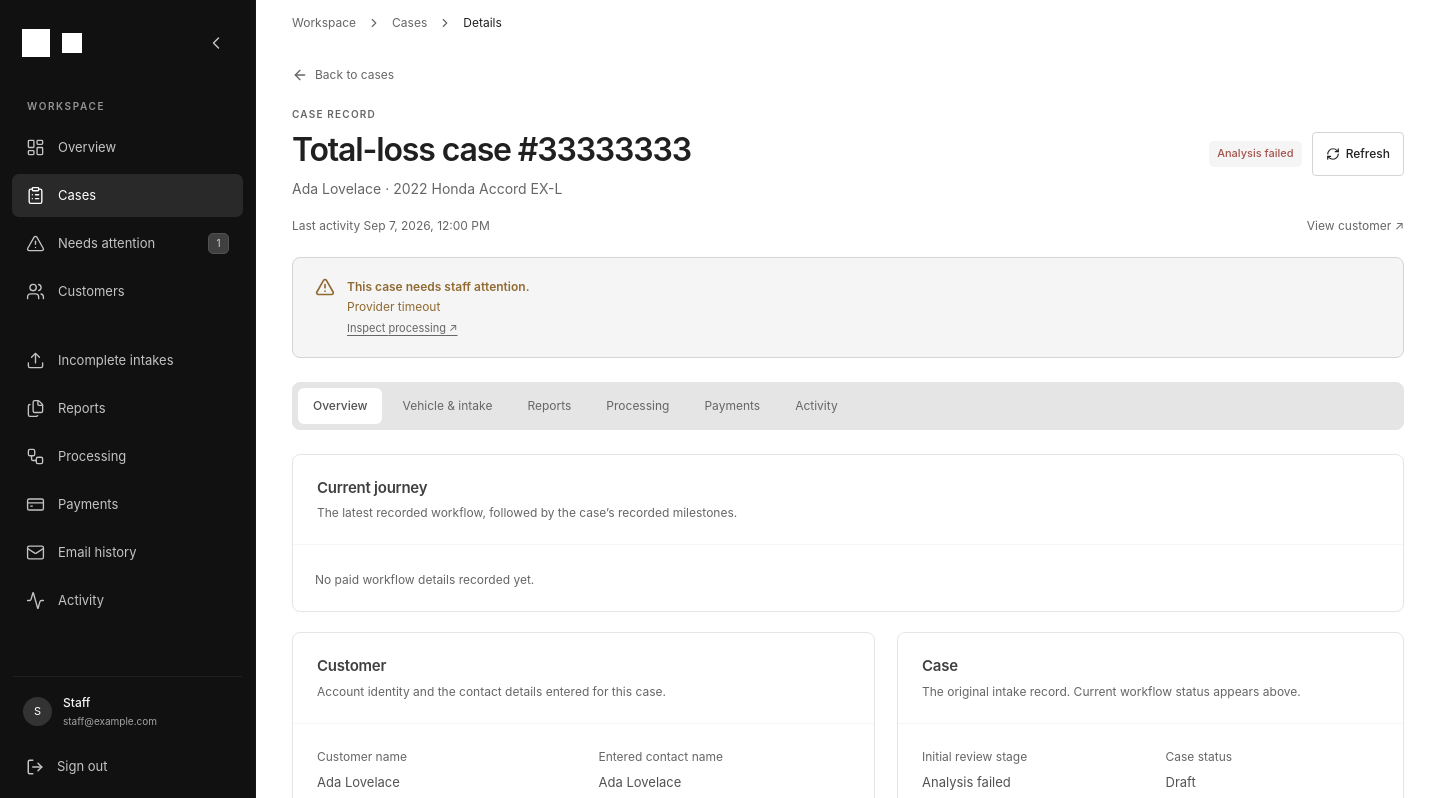
it: admin case-operations pages › renders bounded total-loss operational detail without mutation or PDF controls
Expected: the heading "Total-loss case #33333333" is shown, [292, 131, 691, 169]
Expected: the heading "Customer" is shown, [317, 656, 386, 676]
Click the tab "Vehicle & intake": {"x": 447, "y": 406} [388, 388, 507, 424]
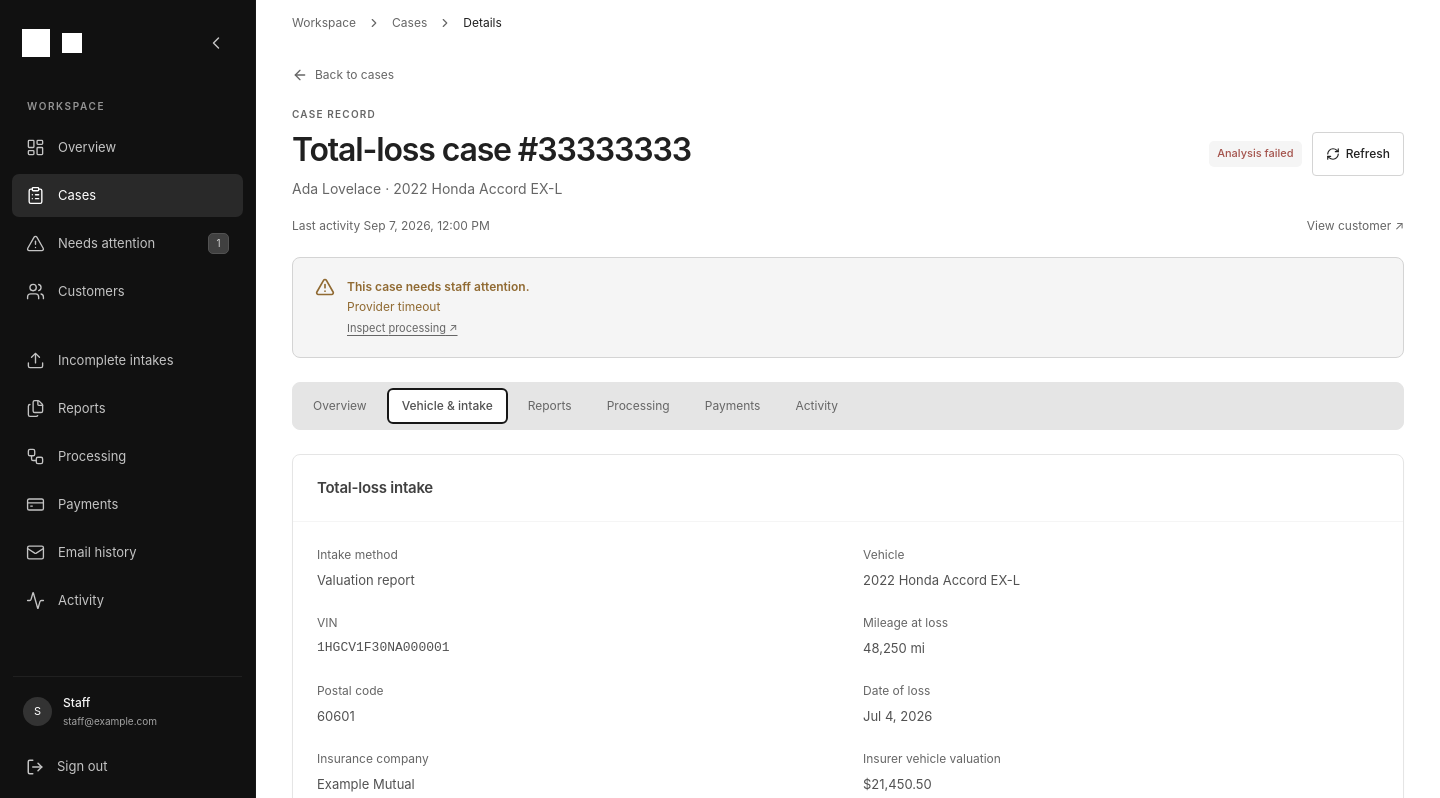
Now the heading "Total-loss intake" is shown, box [317, 477, 433, 500]
Click the tab "Reports": {"x": 550, "y": 406} [513, 388, 587, 424]
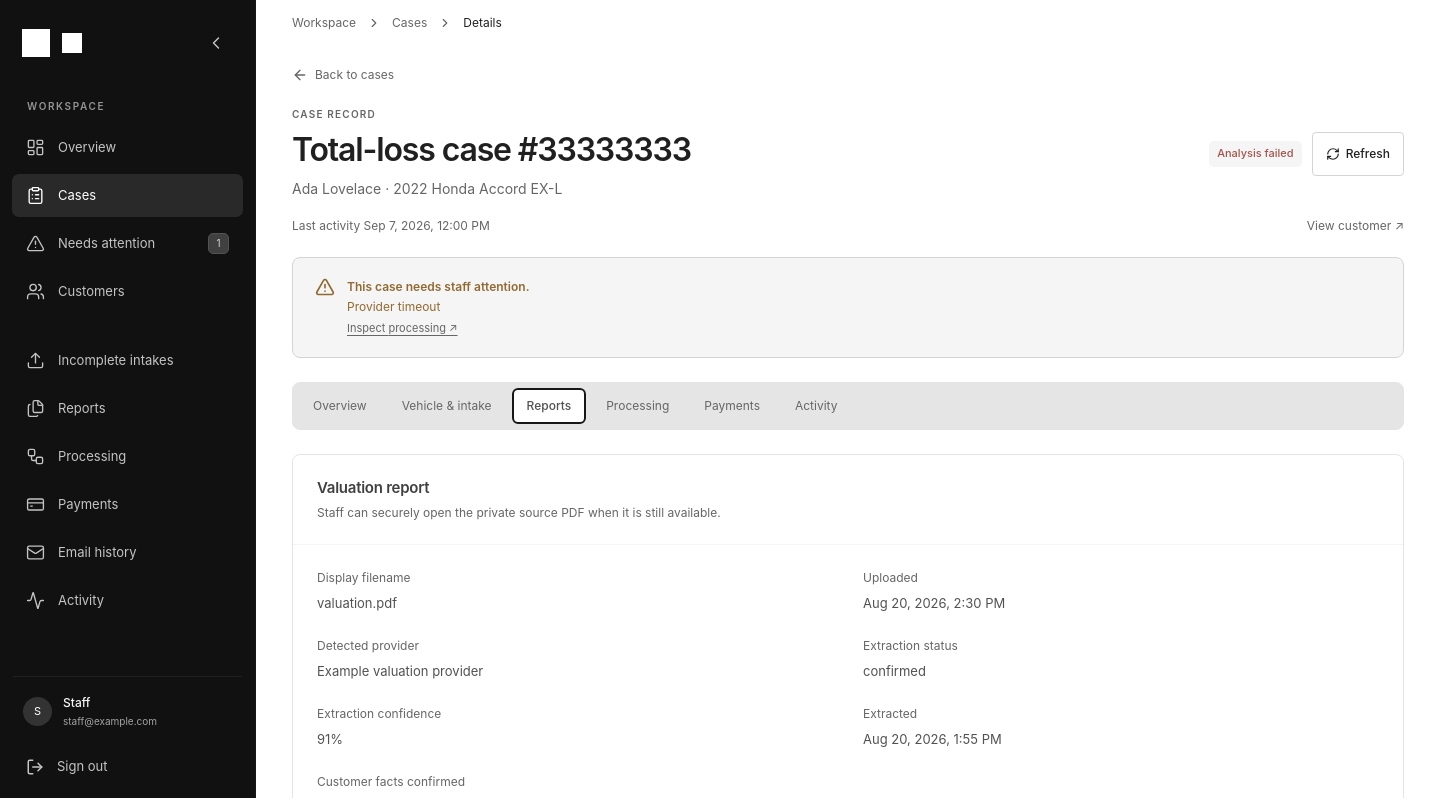
Now the heading "Valuation report" is shown, box [317, 478, 429, 497]
Now the text "valuation.pdf" is shown, box [317, 596, 397, 612]
Click the tab "Processing": {"x": 638, "y": 406} [591, 388, 684, 424]
(page scrolled)
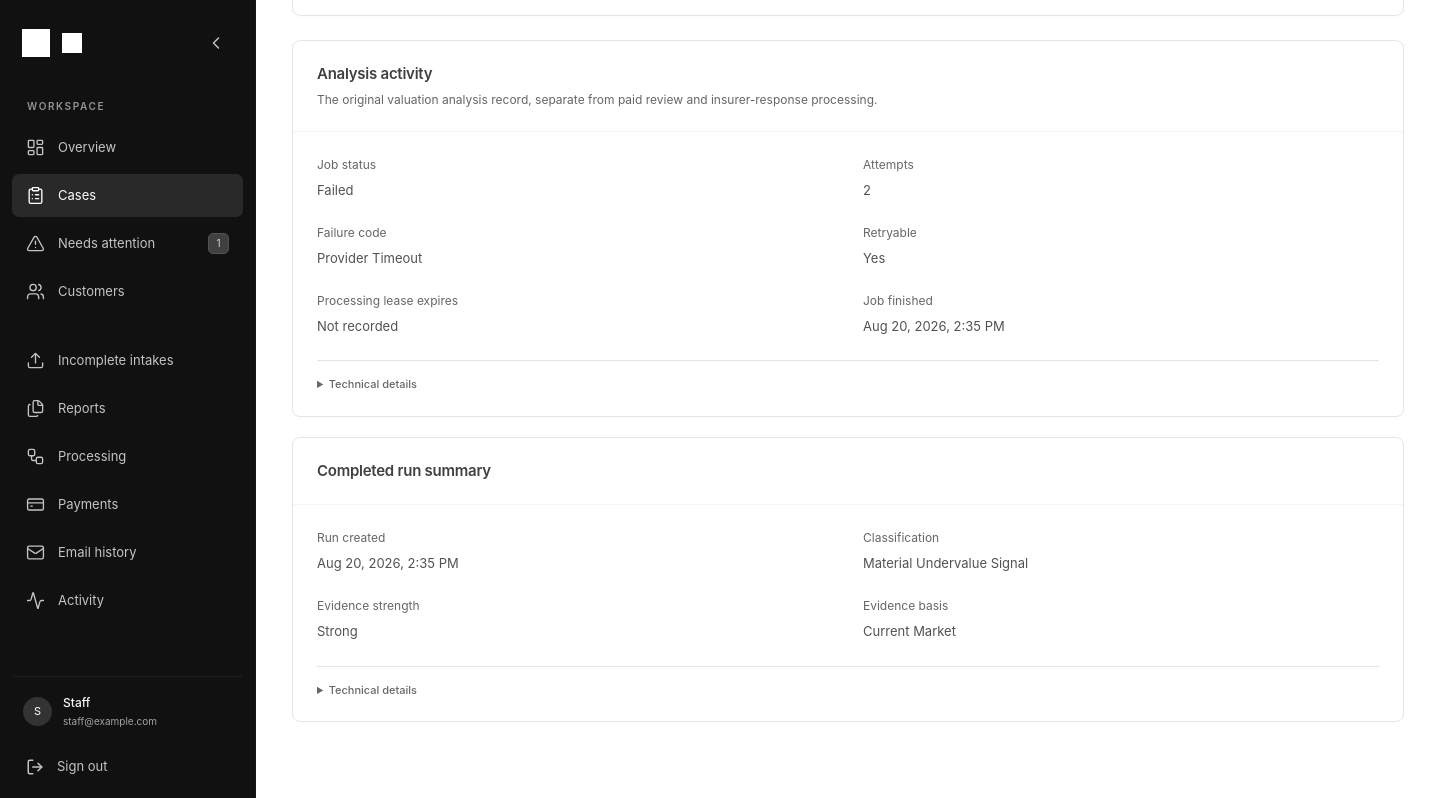
Now the heading "Analysis activity" is shown, box [317, 64, 432, 84]
Now the heading "Completed run summary" is shown, box [317, 460, 491, 482]
Now the text "Provider Timeout" is shown, box [317, 250, 422, 266]
